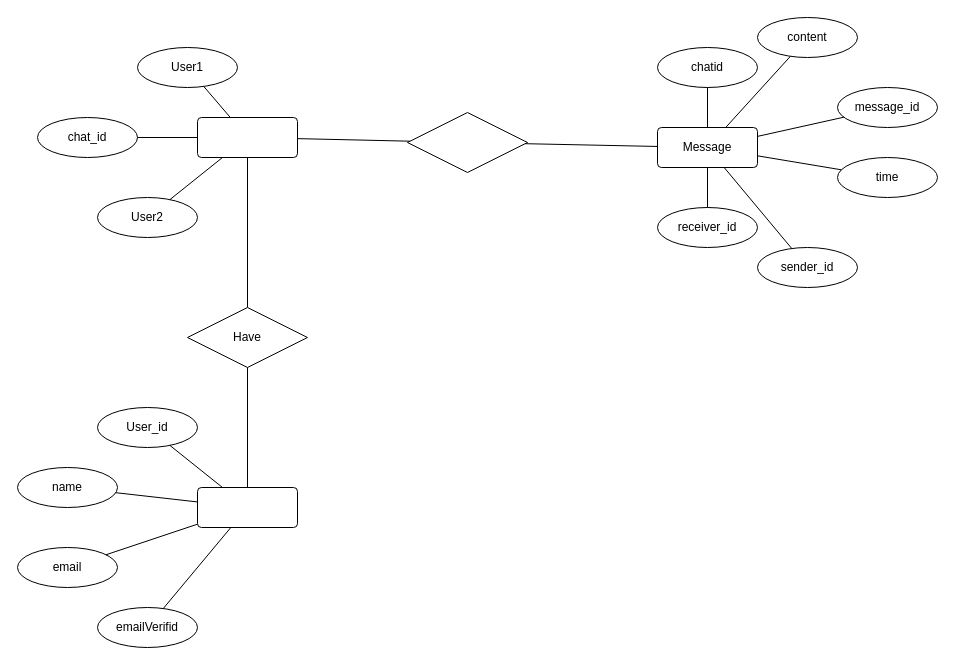
This 955x665 diagram has some shape labels left out. The centre of each missing label's shape, as x and y in pixels:
Chat: the point at 247,137
Contains: the point at 467,142
Users: the point at 247,507
